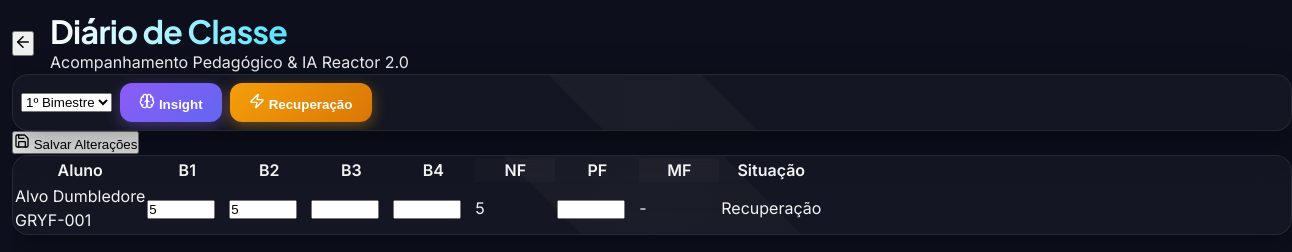
Test: GradeManagement Component › should calculate NF and Situation correctly when grades are changed
Expected: the text "Alvo Dumbledore" is shown, [15,184,145,208]
# Change B3 to 8.0
Type "8" into the 3rd number field at (345, 209), box [311,200,379,219]
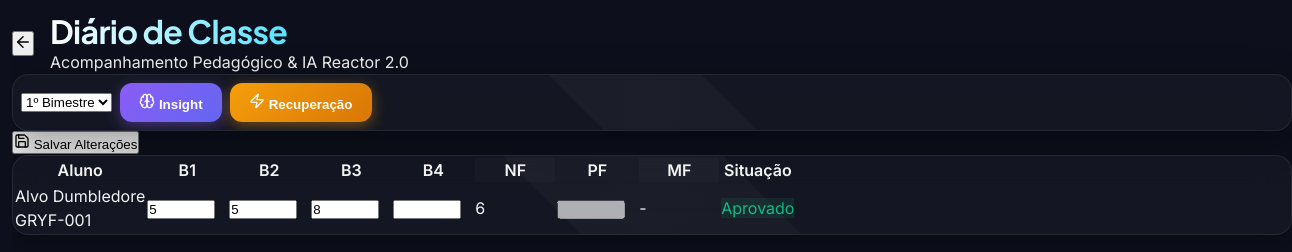
Expected: the text "Aprovado" is shown, [721,198,794,218]
Expected: the text "6" is shown, [475,184,555,232]
